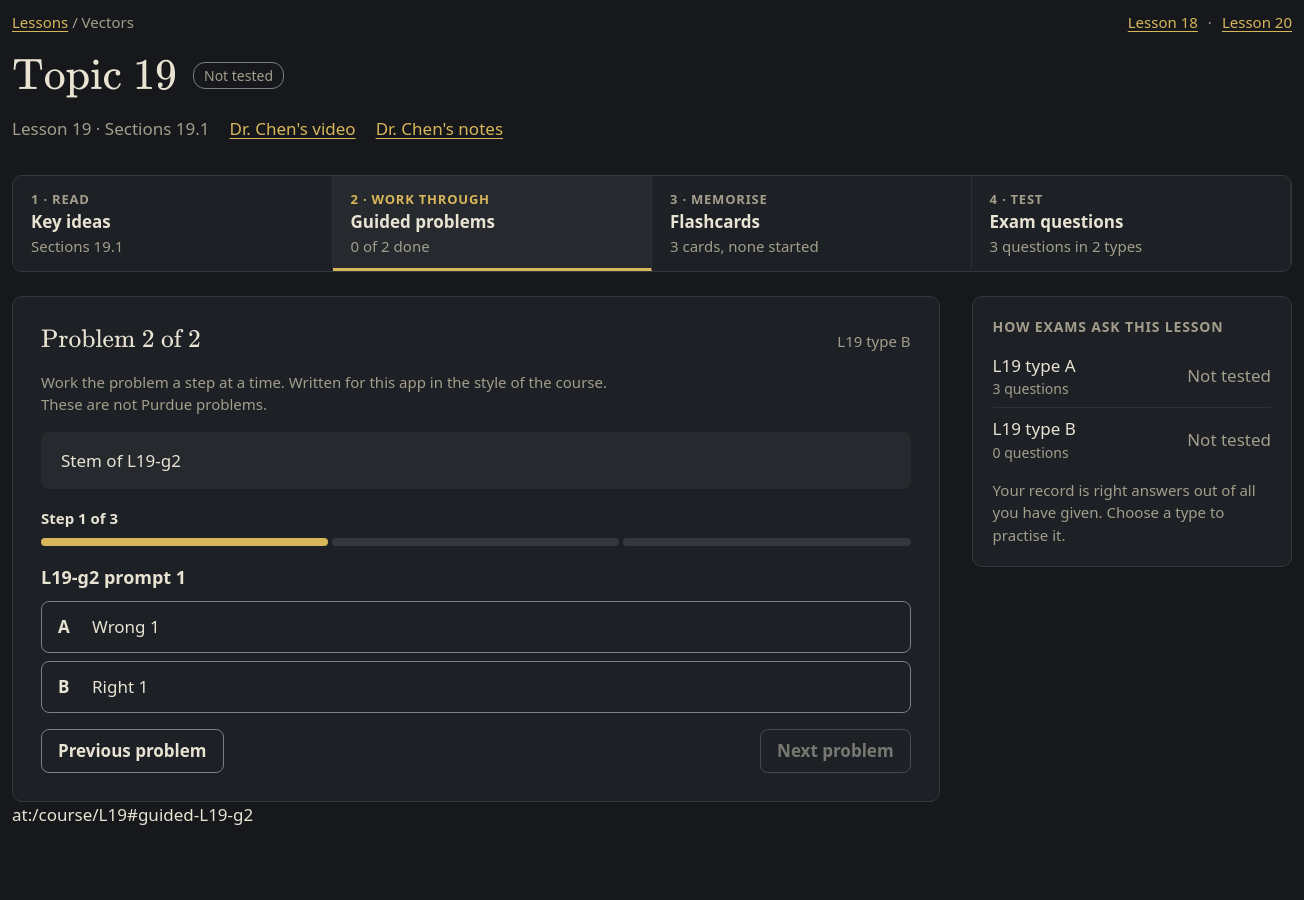
Test case: a link to one guided problem opens the guided tab on that problem
Check: the heading "Topic 19" is shown, box [12,50,177,101]
Check: the heading "Problem 2 of 2" is shown, box [41,325,201,354]
Previous still works from there
Click the button "Previous problem": (132, 750) [41,728,224,772]
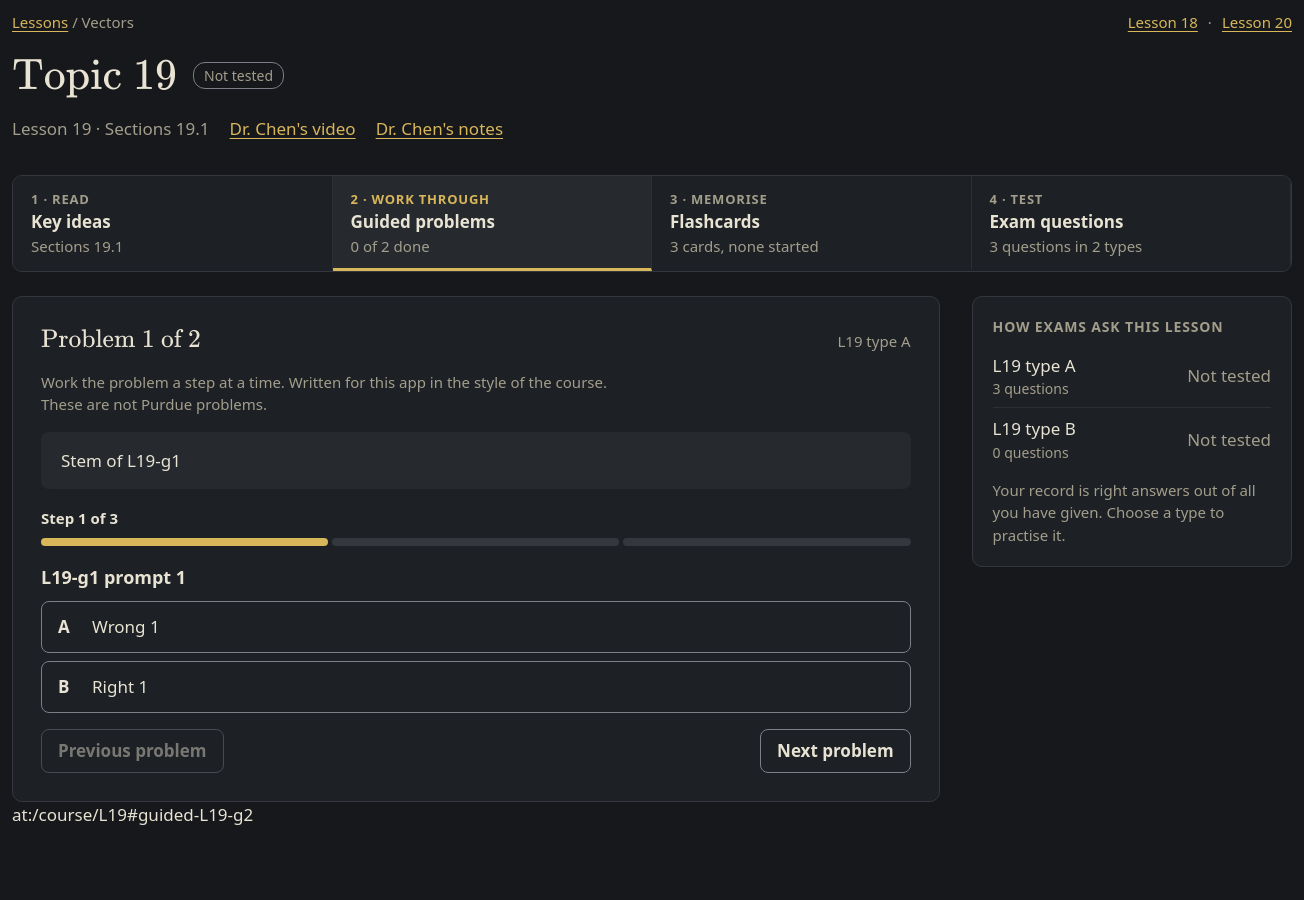
Check: the heading "Problem 1 of 2" is shown, box [41,325,201,354]
